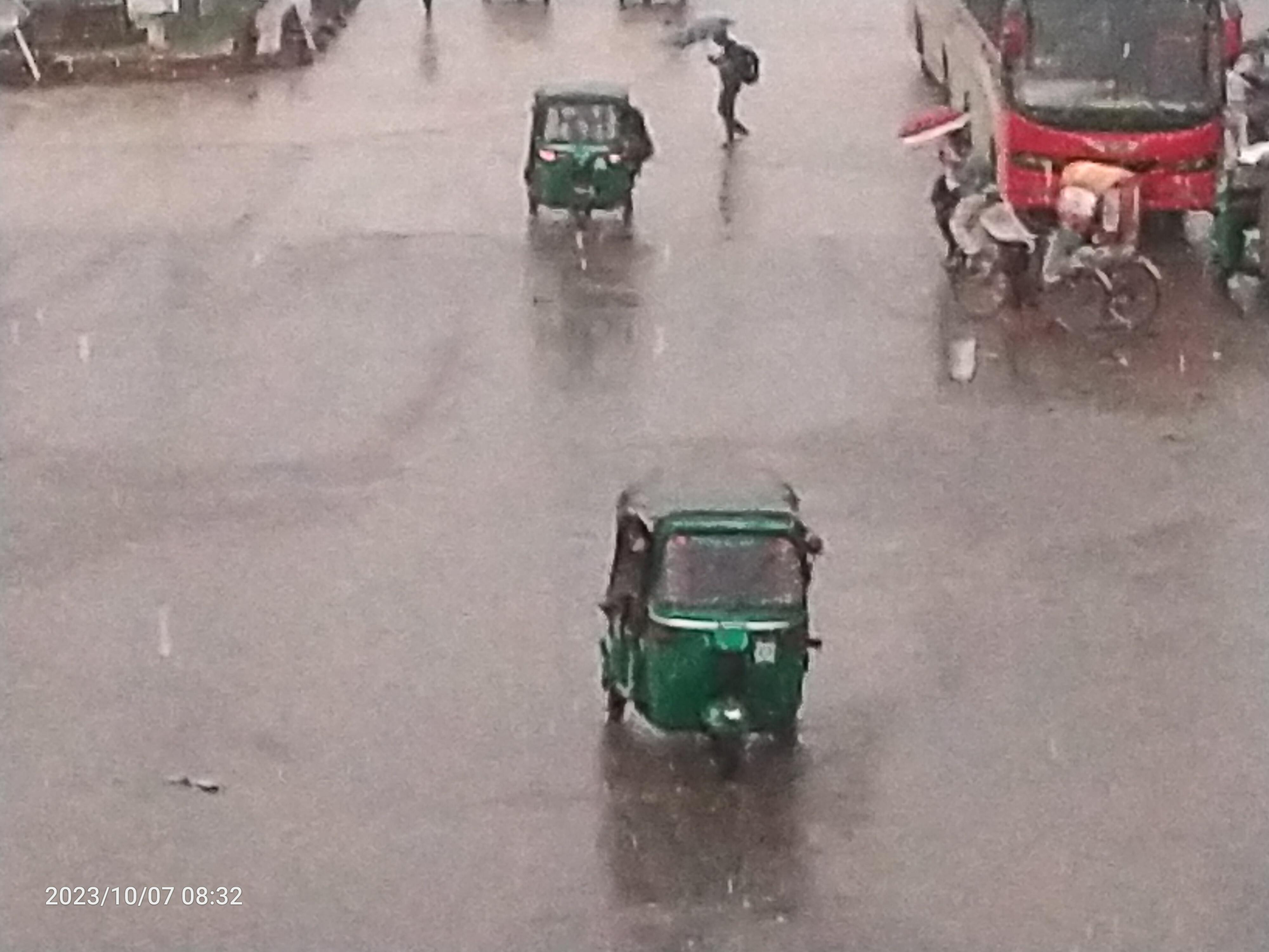Bus: (885, 0, 1257, 263)
Car: (885, 145, 1200, 378)
